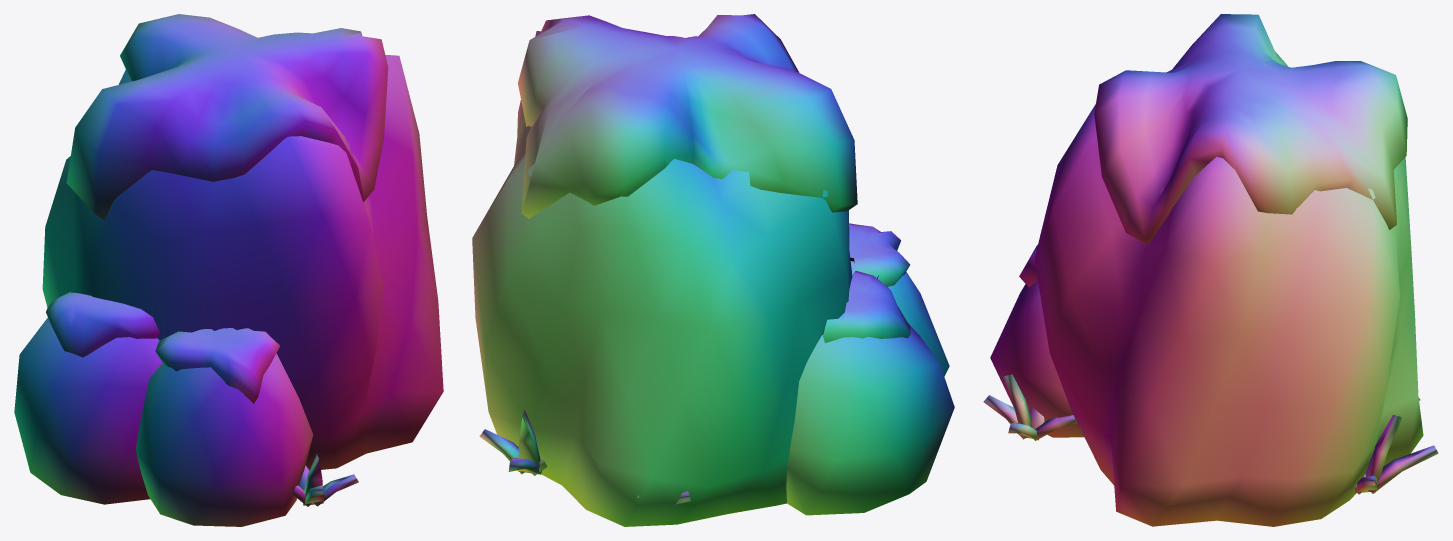
The model's file is SM_Outcrop_March_V3.fbx.
3 renders of one model, left to right at view 1: azimuth 30°, elevation 25°; view 2: azimuth 150°, elevation 25°; view 3: azimuth 270°, elevation 25°, orthographic. The views are drawn at different scales.
Visible parts, largest first — view 1: SM_Outcrop_March_V3; view 2: SM_Outcrop_March_V3; view 3: SM_Outcrop_March_V3.
Part boxes in pixels (bbox=[...]): SM_Outcrop_March_V3: bbox=[14, 14, 443, 526]; SM_Outcrop_March_V3: bbox=[472, 14, 954, 526]; SM_Outcrop_March_V3: bbox=[983, 14, 1438, 526].
Bounding box in the file's own units: 1.53 × 1.41 × 1.51.
